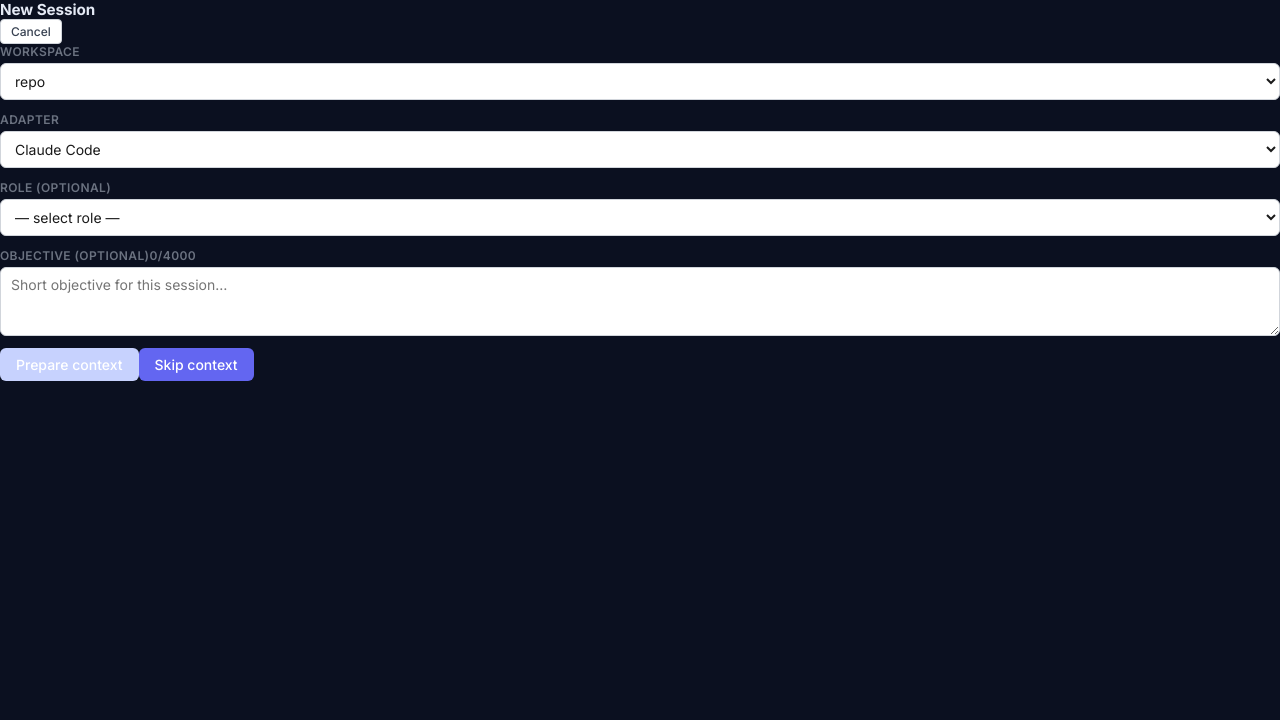
Test: CreateSessionDialog › shows unavailable adapter hint
Select "Codex (unavailable)" in the dropdown with id "create-session-adapter" at (640, 150), box [0, 131, 1279, 168]
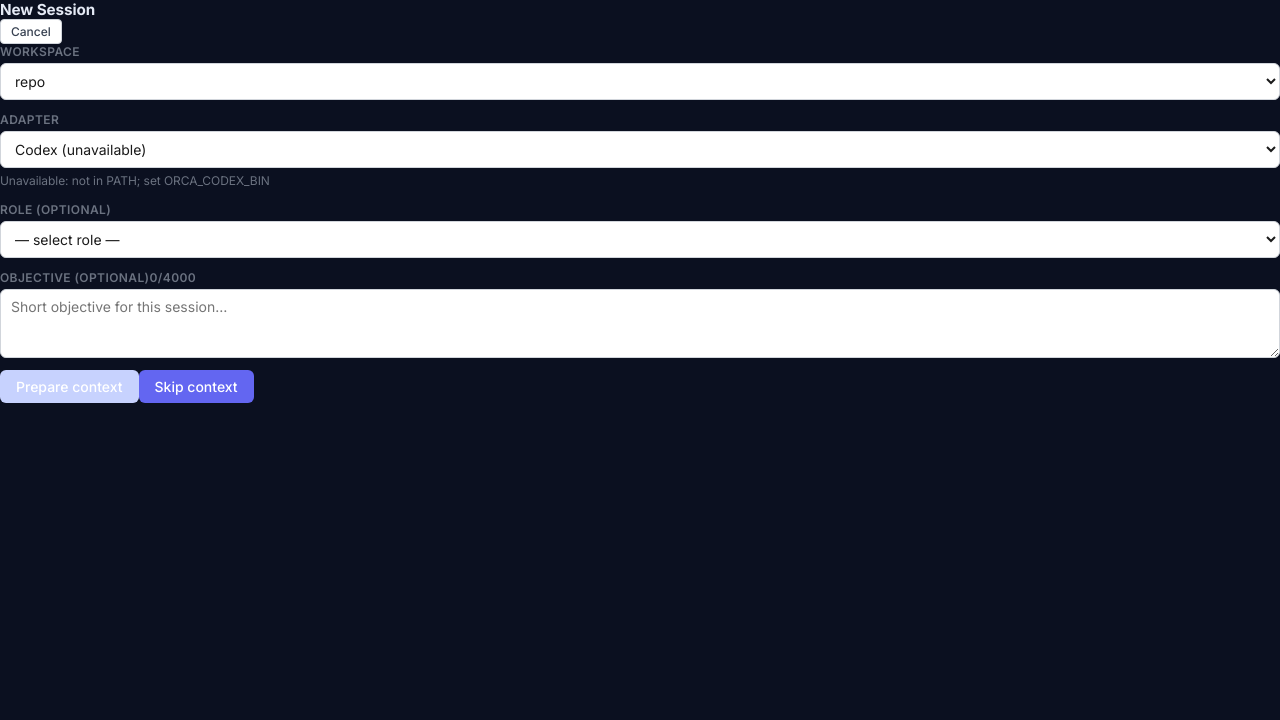
Now the text "not in PATH" is shown, box [72, 173, 270, 188]
